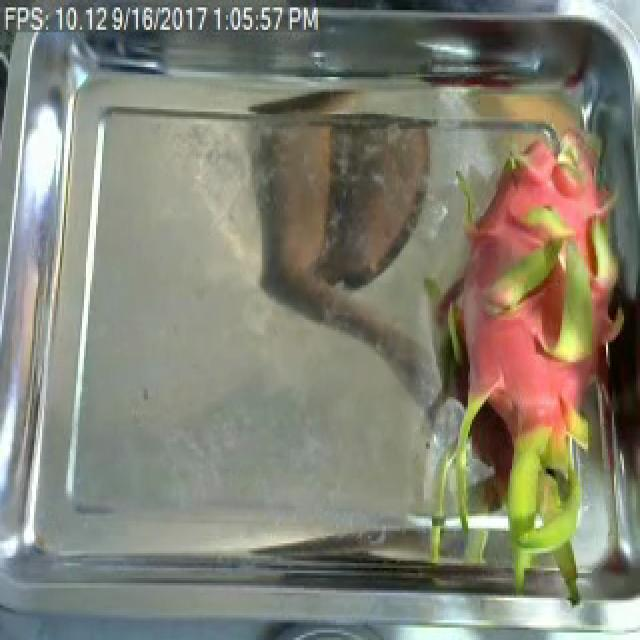fruit: (386, 168, 640, 602)
